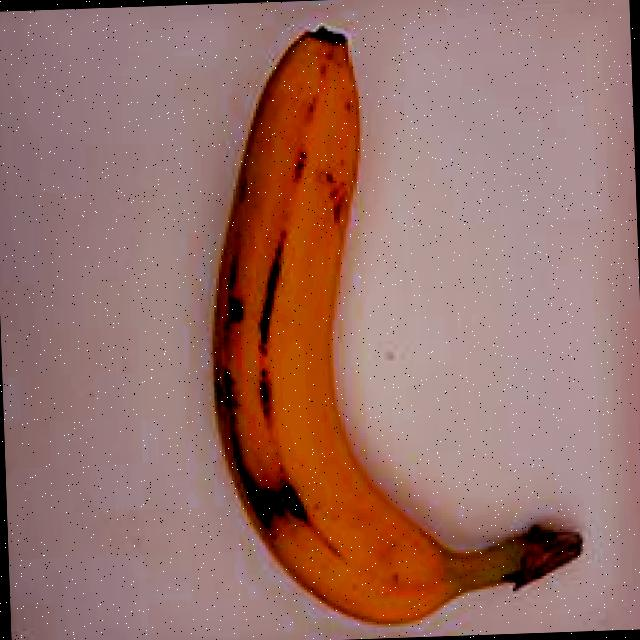Overripe: (188, 8, 606, 640)
